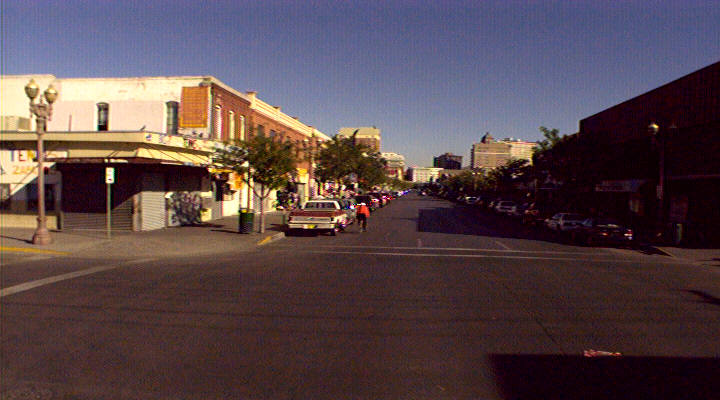Ramp: (37, 230, 272, 264), (654, 242, 720, 263)
